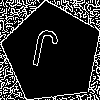J: (27, 28, 61, 78)
